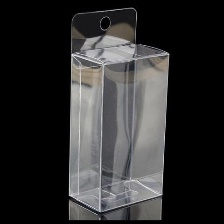plastic_box: (61, 2, 179, 218)
